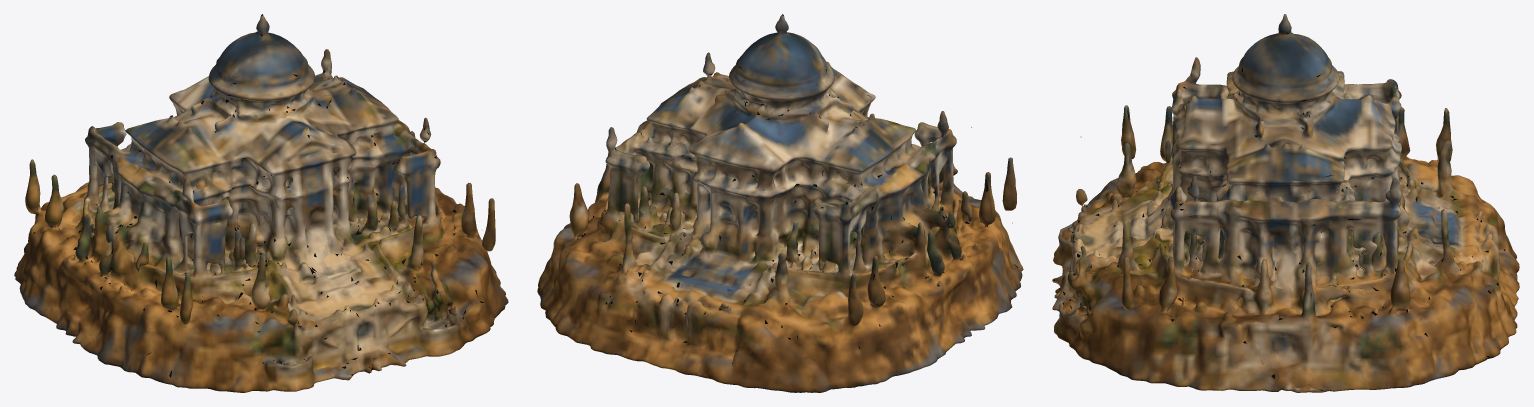
Rendered from building-review.glb.
3 renders of one model, left to right at view 1: azimuth 30°, elevation 25°; view 2: azimuth 150°, elevation 25°; view 3: azimuth 270°, elevation 25°, orthographic. The views are drawn at different scales.
Parts seen in each view (by area): view 1: lion | building material review; view 2: lion | building material review; view 3: lion | building material review.
Boxes of the visible parts, x1,y1,x2,y2 form: lion | building material review: (14, 14, 508, 392); lion | building material review: (537, 14, 1023, 392); lion | building material review: (1052, 14, 1519, 392).
Size of the model in its own units: 38.78 by 26 by 38.98.
Materials: 2 (1 with a texture image).
